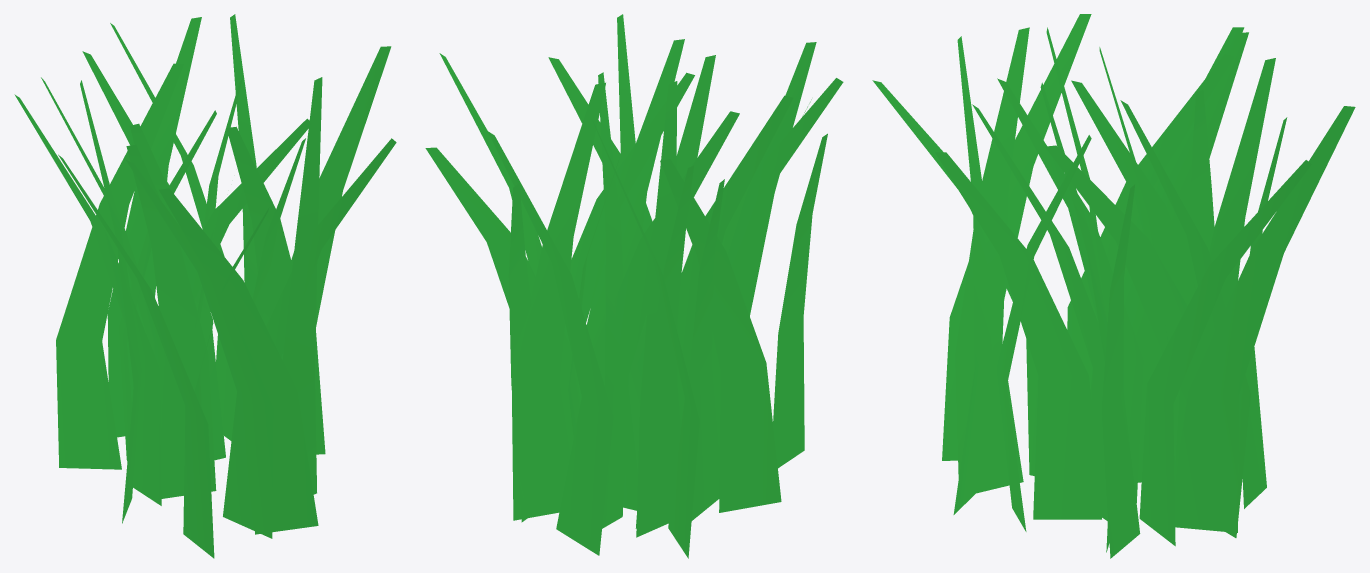
The model's file is Grass.fbx.
3 views of the same model, side by side, from view 1: azimuth 30°, elevation 25°; view 2: azimuth 150°, elevation 25°; view 3: azimuth 270°, elevation 25° (orthographic). The views are drawn at different scales.
Visible parts, largest first — view 1: Grass; view 2: Grass; view 3: Grass.
Boxes of the visible parts, x1=… form: Grass: x1=14, y1=14, x2=396, y2=558; Grass: x1=425, y1=14, x2=843, y2=558; Grass: x1=872, y1=14, x2=1355, y2=558.
Size of the model in its own units: 91.57 by 102 by 97.51.
